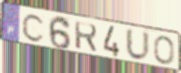4: (102, 24, 121, 59)
6: (47, 15, 72, 51)
C: (21, 13, 47, 44)
O: (153, 35, 176, 67)
R: (74, 21, 99, 54)
U: (125, 27, 152, 63)
